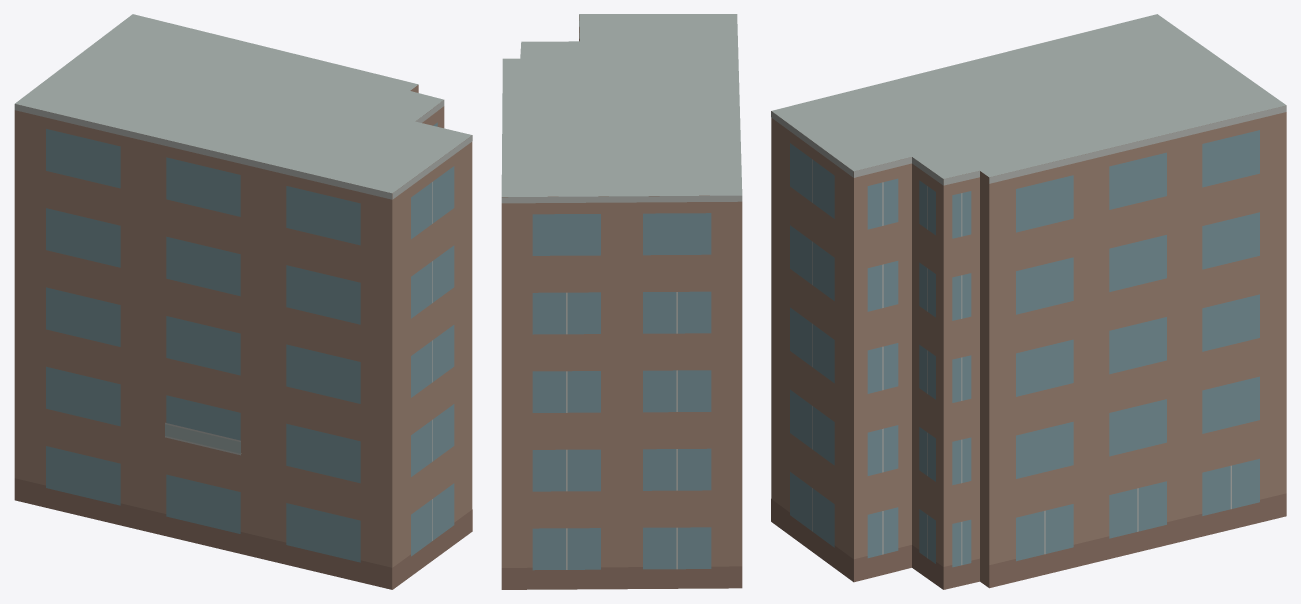
File: survey-upis-32741553.glb
3 renders of one model, left to right at view 1: azimuth 30°, elevation 25°; view 2: azimuth 150°, elevation 25°; view 3: azimuth 270°, elevation 25°, orthographic. The views are drawn at different scales.
Parts seen in each view (by area): view 1: survey-upis-32741553.tmp; view 2: survey-upis-32741553.tmp; view 3: survey-upis-32741553.tmp.
Part boxes in pixels (<box>): survey-upis-32741553.tmp: <box>14,14,472,589</box>; survey-upis-32741553.tmp: <box>501,14,742,589</box>; survey-upis-32741553.tmp: <box>771,14,1286,589</box>.
Bounding box in the file's own units: 13.15 × 15.25 × 17.35.
